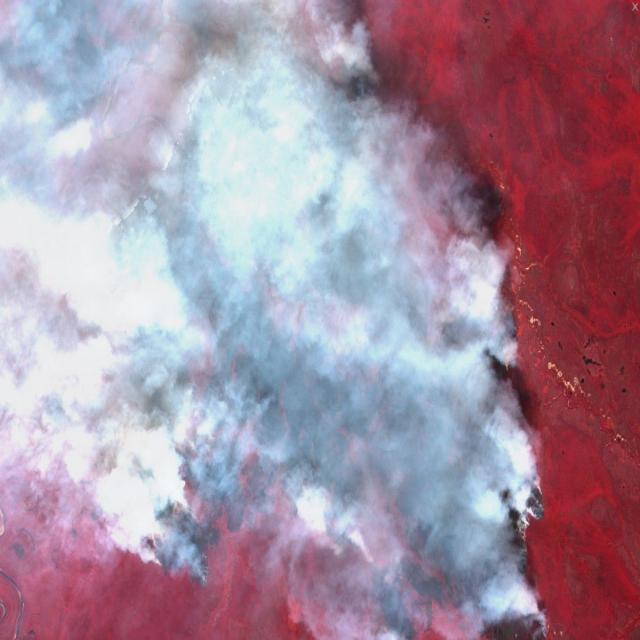fire: (84, 44, 552, 640)
